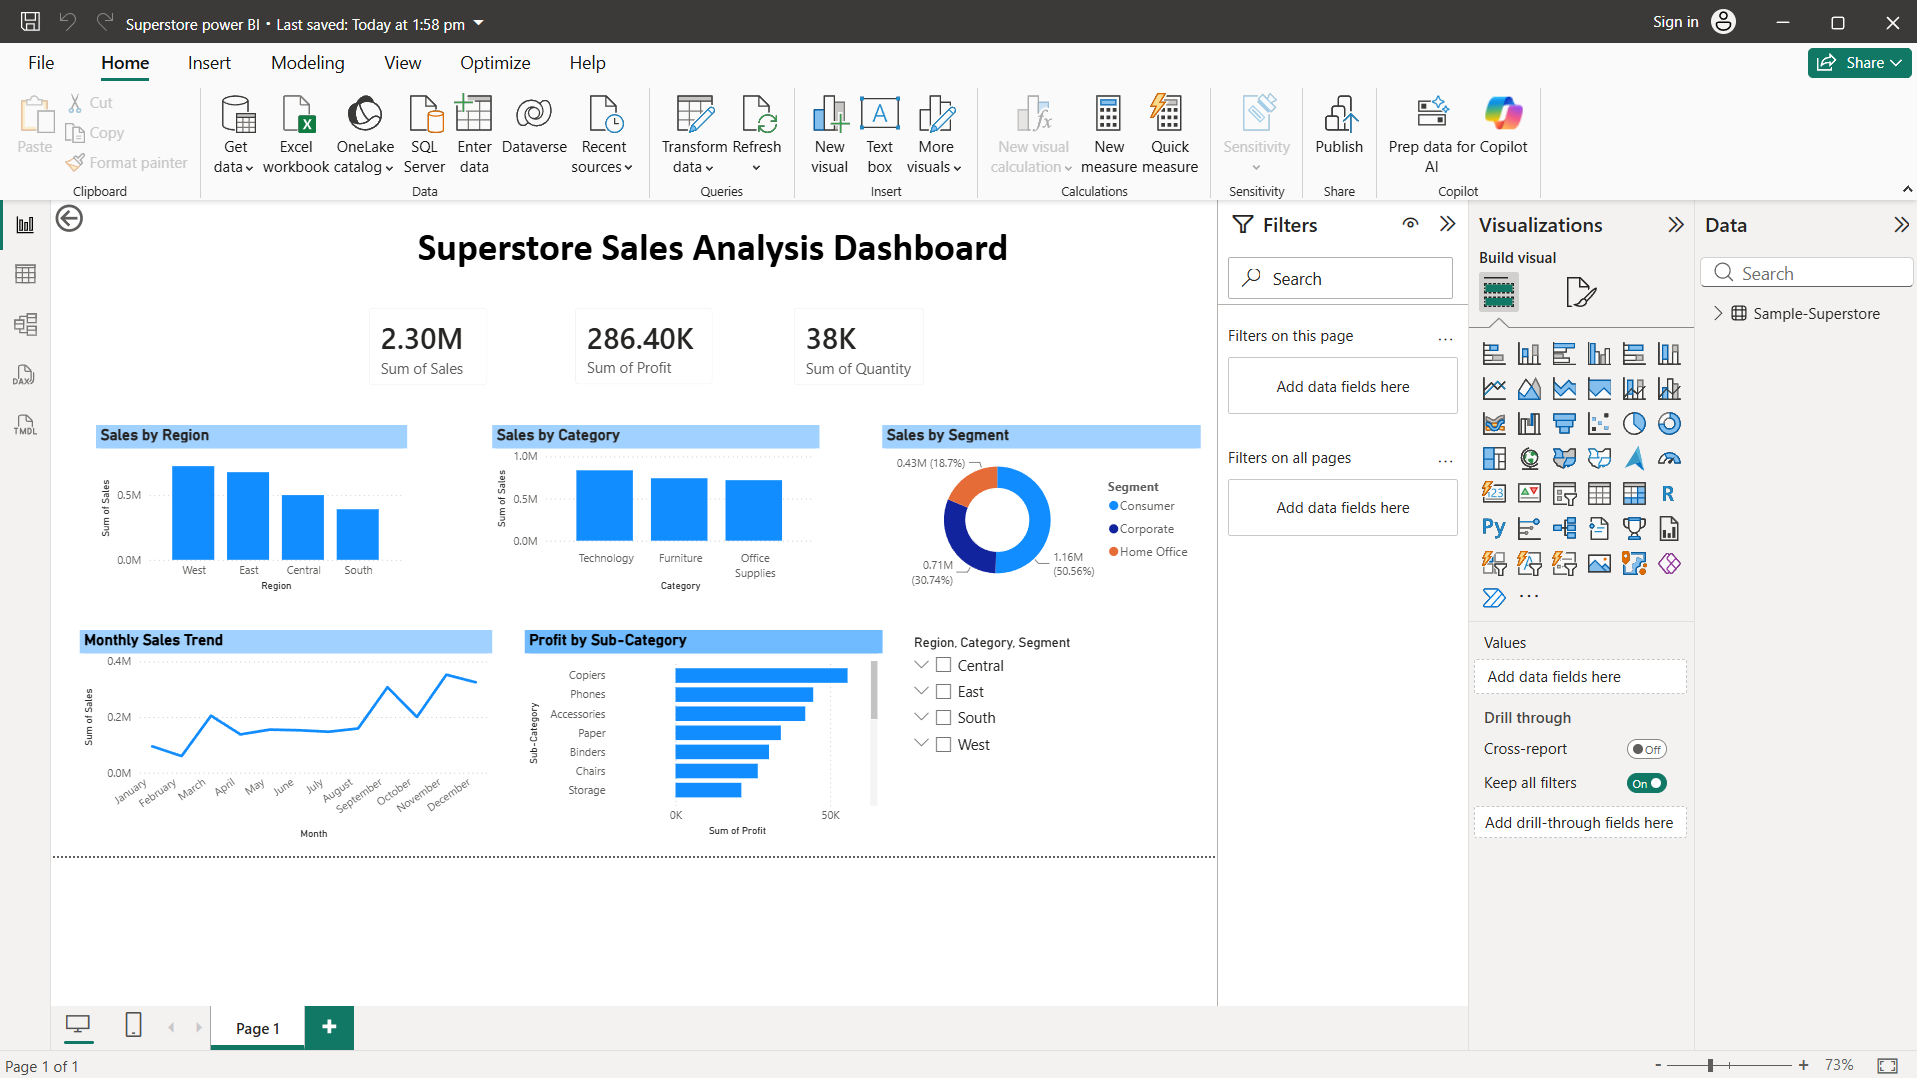

Layout of this report page (visuals, bound fields, positions):
{"tool":"powerbi","page":{"name":"Page 1","canvas":[1280,720],"ordinal":0},"visuals":[{"type":"cardVisual","fields":{"Data":["Sum(Sample-Superstore.Sales)"]},"box":[285.4,133.1,164.7,119.4],"z":0},{"type":"cardVisual","fields":{"Data":["Sum(Sample-Superstore.Quantity)"]},"box":[735.5,133.1,177,119.4],"z":1000},{"type":"cardVisual","fields":{"Data":["Sum(Sample-Superstore.Profit)"]},"box":[485.8,133.1,185.2,118],"z":2000},{"type":"clusteredColumnChart","title":"Sales by Region","fields":{"Category":["Sample-Superstore.Region"],"Y":["Sum(Sample-Superstore.Sales)"]},"box":[49.4,264.8,341.7,188],"z":3000},{"type":"clusteredColumnChart","title":"Sales by Category","fields":{"Category":["Sample-Superstore.Category"],"Y":["Sum(Sample-Superstore.Sales)"]},"box":[469.3,264.8,359.5,188],"z":4000},{"type":"lineChart","title":"Monthly Sales Trend","fields":{"Y":["Sum(Sample-Superstore.Sales)"],"Category":["Sample-Superstore.Order Date.Variation.Date Hierarchy.Month","Sample-Superstore.Order Date.Variation.Date Hierarchy.Day"]},"box":[31.6,478.9,466.6,234.6],"z":5000},{"type":"clusteredBarChart","title":"Profit by Sub-Category","fields":{"Category":["Sample-Superstore.Sub-Category"],"Y":["Sum(Sample-Superstore.Profit)"]},"box":[520.1,483,392.5,227.8],"z":6000},{"type":"donutChart","title":"Sales by Segment","fields":{"Category":["Sample-Superstore.Segment"],"Y":["Sum(Sample-Superstore.Sales)"]},"box":[912.5,264.8,337.6,188],"z":7000},{"type":"slicer","fields":{"Values":["Sample-Superstore.Region","Sample-Superstore.Category","Sample-Superstore.Segment"]},"box":[934.5,485.8,315.6,227.8],"z":8000},{"type":"actionButton","box":[0,0,100,40],"z":9000},{"type":"textbox","box":[264.8,20.6,856.3,83.7],"z":10000}]}

Visuals, with their boxes on the page's 1280x720 design canvas (x1, y1, x2, y2). These are canvas units, not pixel positions in the 1917x1078 screenshot, which may show the page scaled, cropped or inside an application window:
cardVisual - Sum(Sample-Superstore.Sales): 285:133:450:252
cardVisual - Sum(Sample-Superstore.Quantity): 736:133:912:252
cardVisual - Sum(Sample-Superstore.Profit): 486:133:671:251
"Sales by Region" clusteredColumnChart: 49:265:391:453
"Sales by Category" clusteredColumnChart: 469:265:829:453
"Monthly Sales Trend" lineChart: 32:479:498:714
"Profit by Sub-Category" clusteredBarChart: 520:483:913:711
"Sales by Segment" donutChart: 912:265:1250:453
slicer - Sample-Superstore.Region x Sample-Superstore.Category: 934:486:1250:714
actionButton: 0:0:100:40
textbox: 265:21:1121:104
